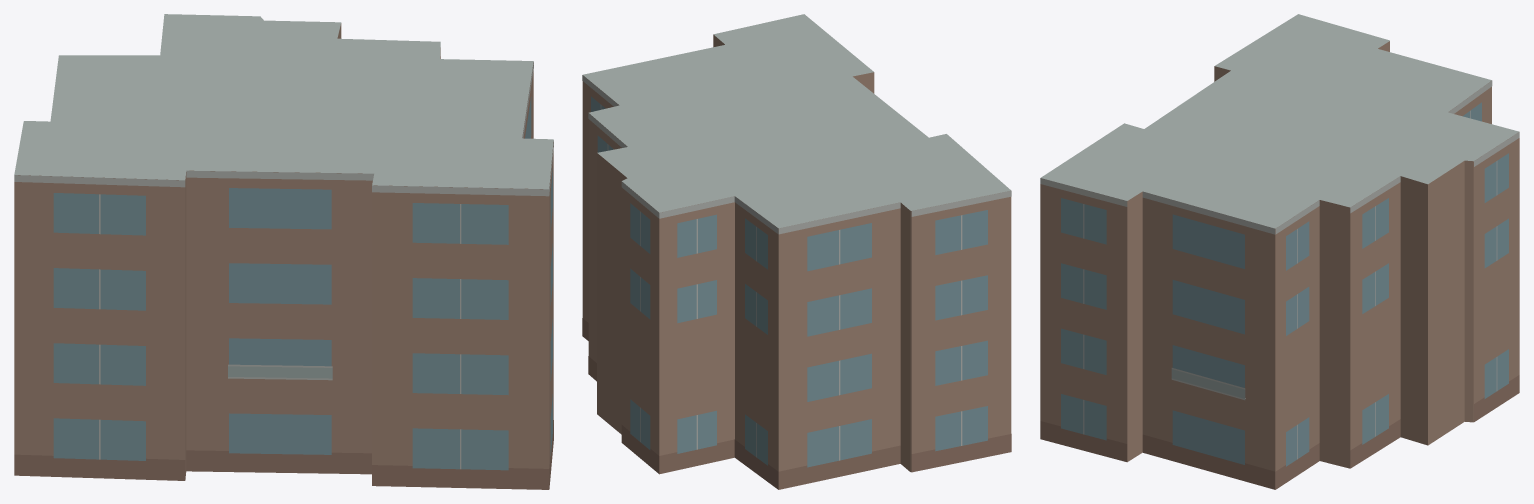
The model's file is survey-upis-32585122.glb.
3 renders of one model, left to right at view 1: azimuth 30°, elevation 25°; view 2: azimuth 150°, elevation 25°; view 3: azimuth 270°, elevation 25°, orthographic. The views are drawn at different scales.
Parts seen in each view (by area): view 1: survey-upis-32585122.tmp; view 2: survey-upis-32585122.tmp; view 3: survey-upis-32585122.tmp.
Part boxes in pixels (x1,y1,x2,y2): survey-upis-32585122.tmp: (14, 14, 553, 489); survey-upis-32585122.tmp: (582, 14, 1011, 489); survey-upis-32585122.tmp: (1040, 14, 1519, 489).
Size of the model in its own units: 18.52 by 10.5 by 17.47.
